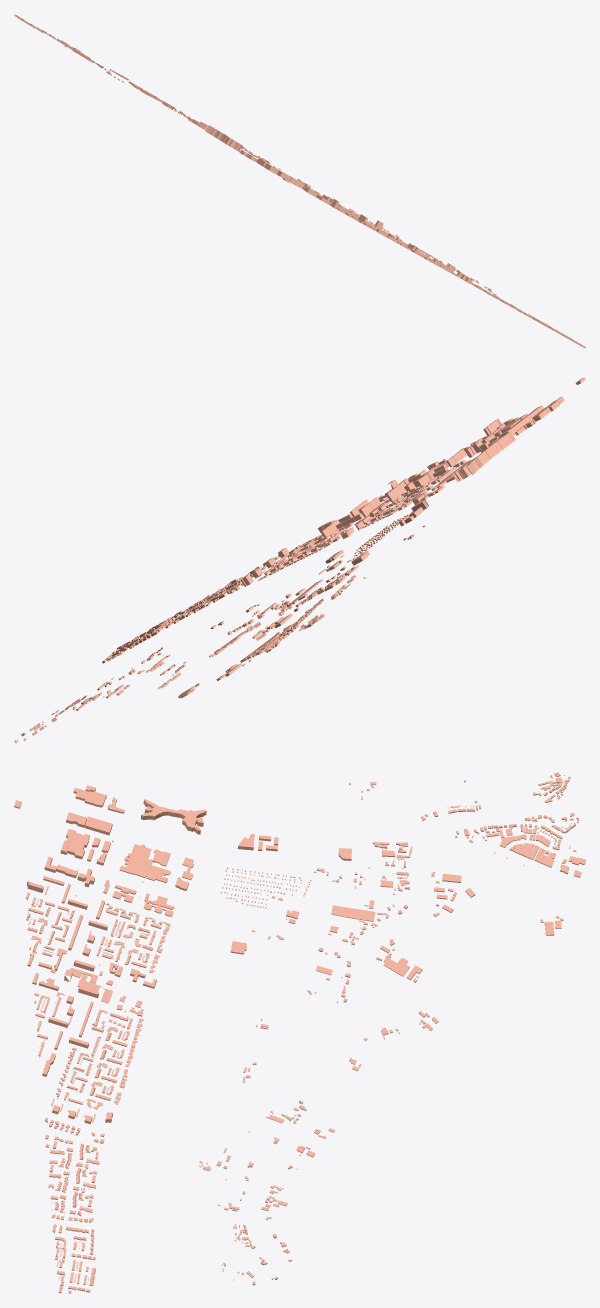
3 views of the same model, one above another, from view 1: azimuth 30°, elevation 25°; view 2: azimuth 150°, elevation 25°; view 3: azimuth 270°, elevation 25° (orthographic). The views are drawn at different scales.
Size of the model in its own units: 2098 by 1502 by 2444.
